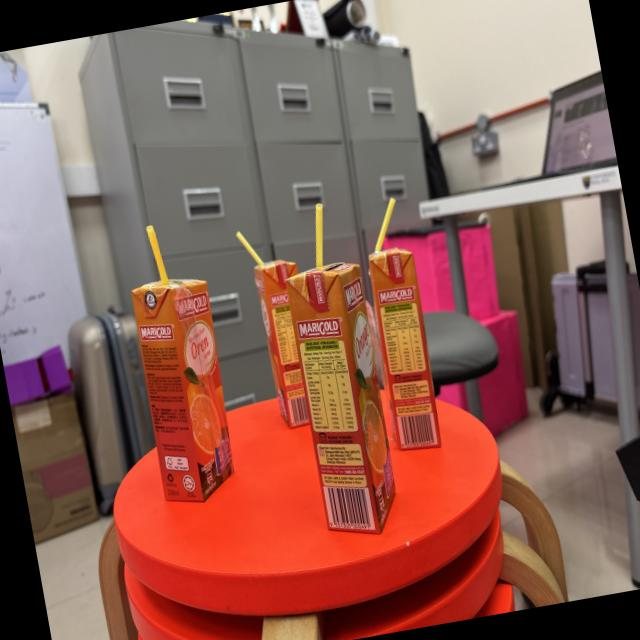drink_carton: (264, 190, 412, 552), (110, 203, 246, 512), (348, 184, 462, 477), (230, 208, 331, 442)
